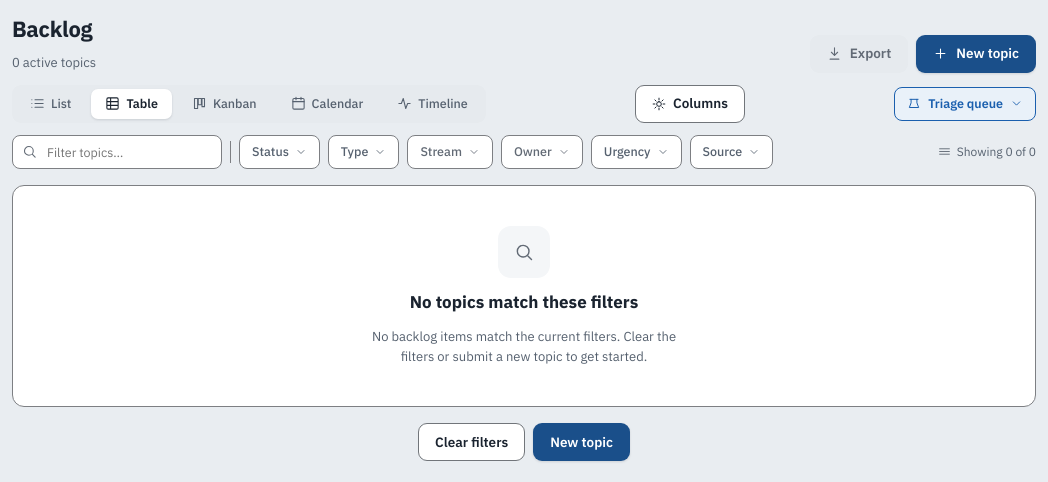
Backlog (P5b) › clears the filters and the search box together
Type "zzz" into the search field at (117,152), box [12,134,222,168]
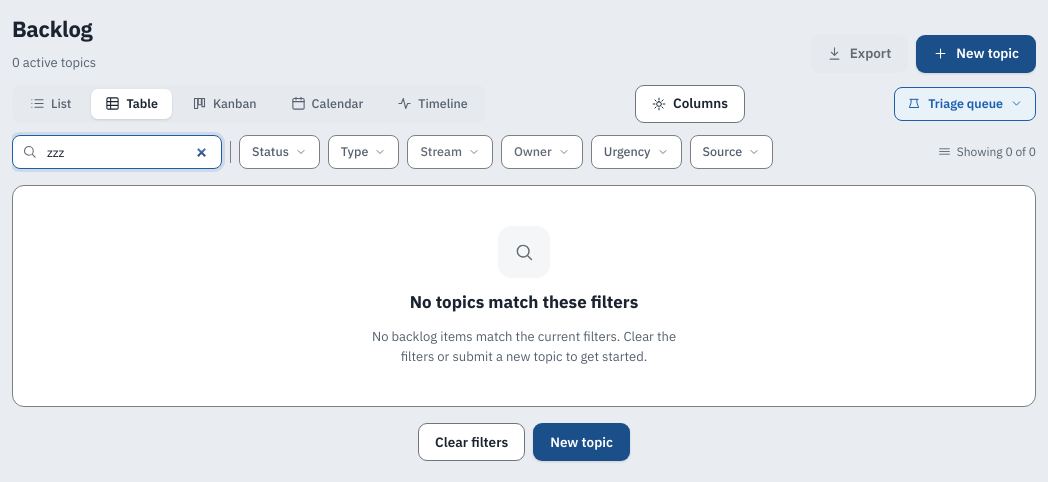
Click the button "Clear filters" at (472,442), box [418,423,525,461]
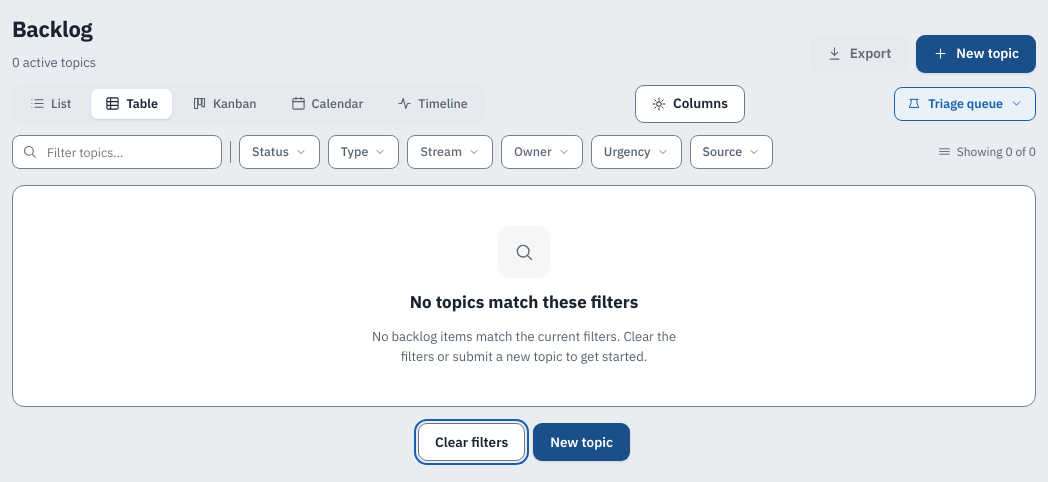
Expected: the search field is empty, [12,134,222,168]
